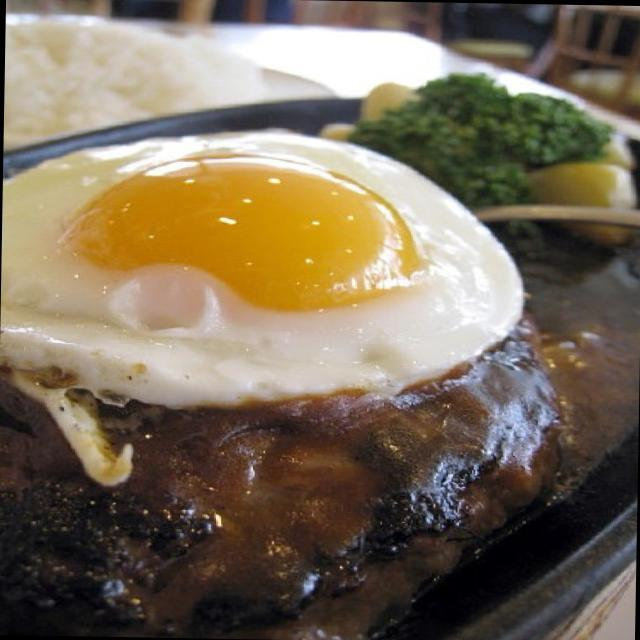Egg: (0, 143, 484, 402)
